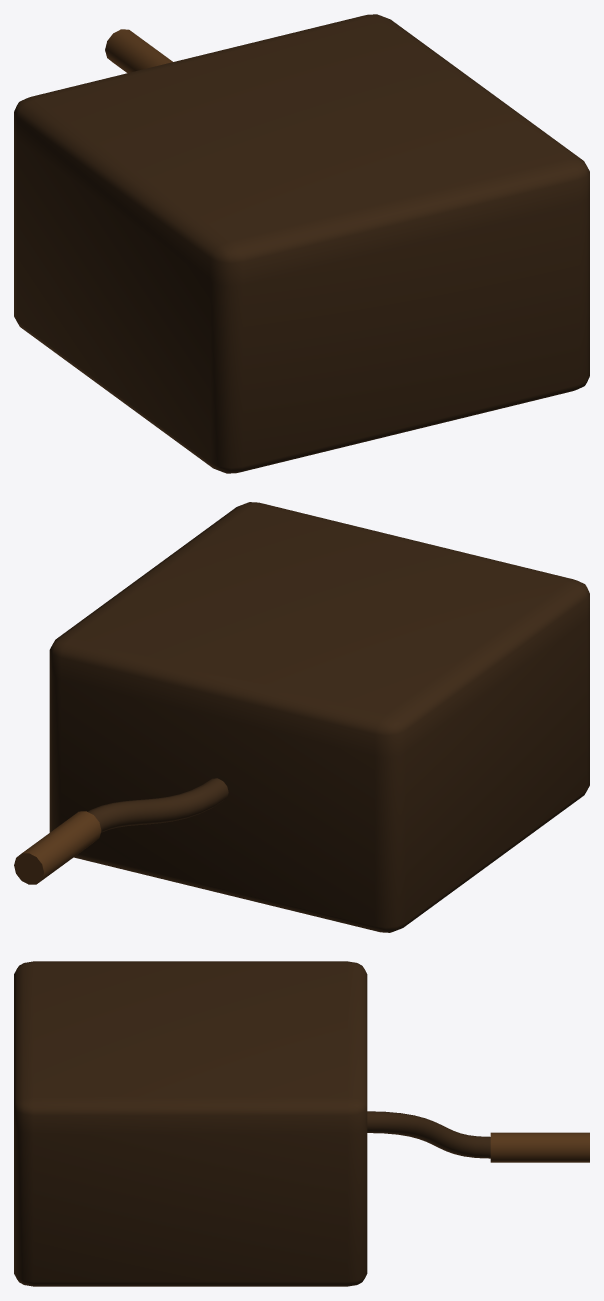
The model's file is MusicBox.glb.
The picture shows the model from 3 angles, top to bottom: view 1: azimuth 30°, elevation 25°; view 2: azimuth 150°, elevation 25°; view 3: azimuth 270°, elevation 25°; orthographic projection. The views are drawn at different scales.
Visible parts, largest first — view 1: music_box_bowl, music_box_lid, music_box_handle; view 2: music_box_bowl, music_box_lid, music_box_handle; view 3: music_box_lid, music_box_bowl, music_box_handle.
Boxes of the visible parts, x1=… form: music_box_bowl: x1=14, y1=135, x2=589, y2=473; music_box_lid: x1=14, y1=14, x2=589, y2=286; music_box_handle: x1=105, y1=29, x2=172, y2=73; music_box_bowl: x1=49, y1=616, x2=589, y2=932; music_box_lid: x1=49, y1=502, x2=589, y2=757; music_box_handle: x1=14, y1=778, x2=228, y2=884; music_box_lid: x1=14, y1=961, x2=367, y2=1134; music_box_bowl: x1=14, y1=1126, x2=367, y2=1286; music_box_handle: x1=367, y1=1111, x2=589, y2=1162.
Size of the model in its own units: 0.9685 by 0.565 by 1.58.
